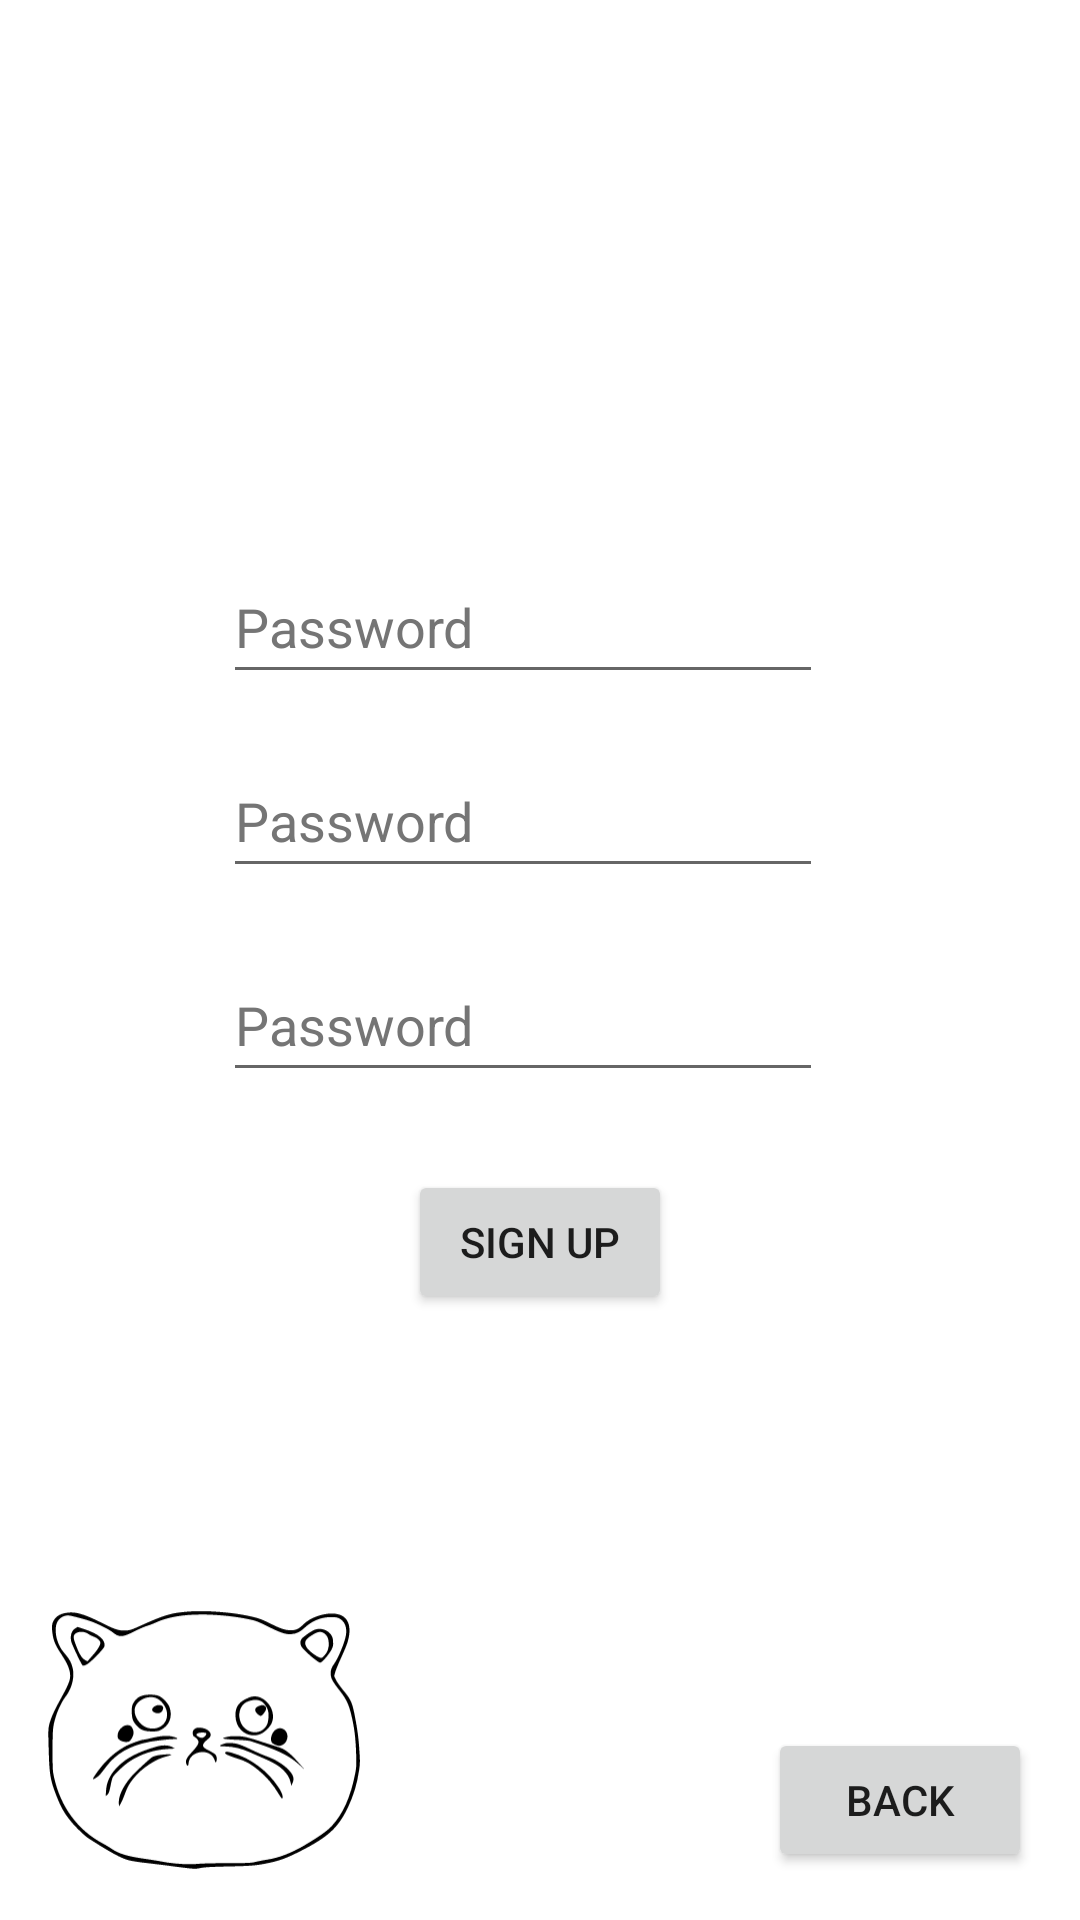

Named icons in this screenshot (1080 x 1920) and their centers, (x=x, y=y):
cat: (x=204, y=1740)
